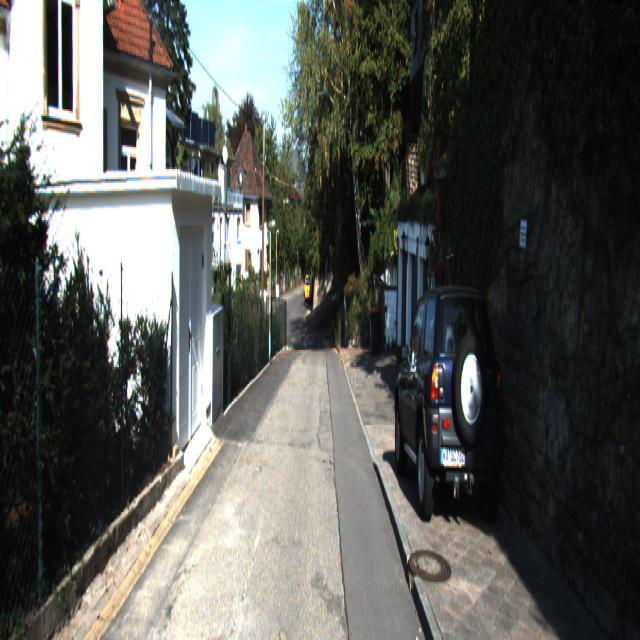Car: (393, 273, 510, 534)
